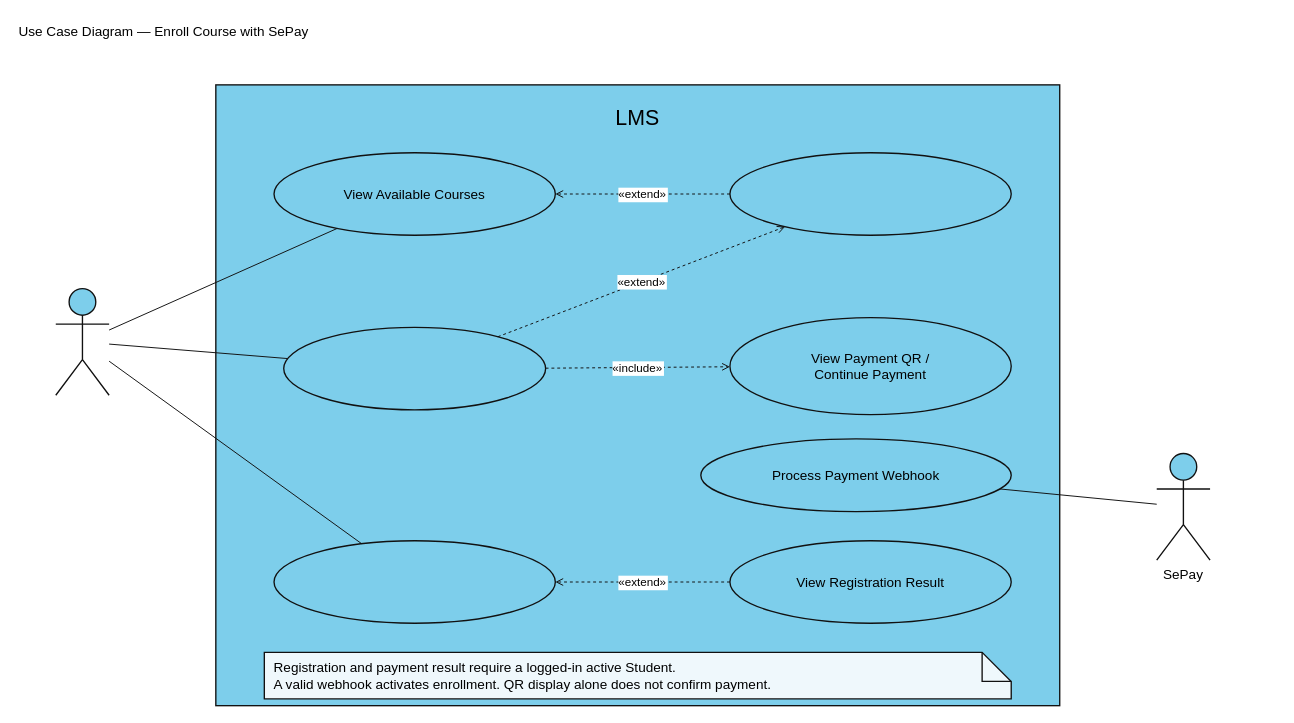
The diagram is 1294 pixels wide and 723 high, and some of its shapes have lost their labels. The centre of each missing label's shape, as x and y in pixels:
Register Course: point 414,368
Student: point 82,341
View Course Details: point 870,193
View My Registrations: point 414,581
